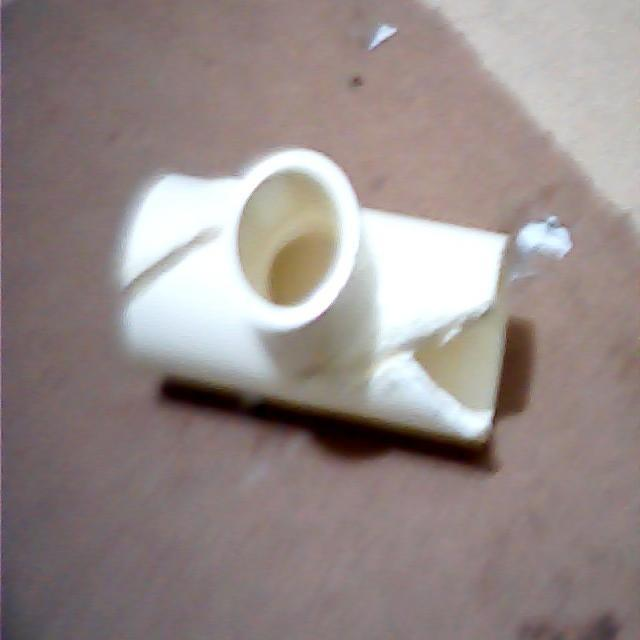Defective: (312, 289, 504, 447), (108, 197, 228, 316), (406, 303, 509, 412), (117, 226, 222, 329)
T Joint: (111, 149, 512, 461)
